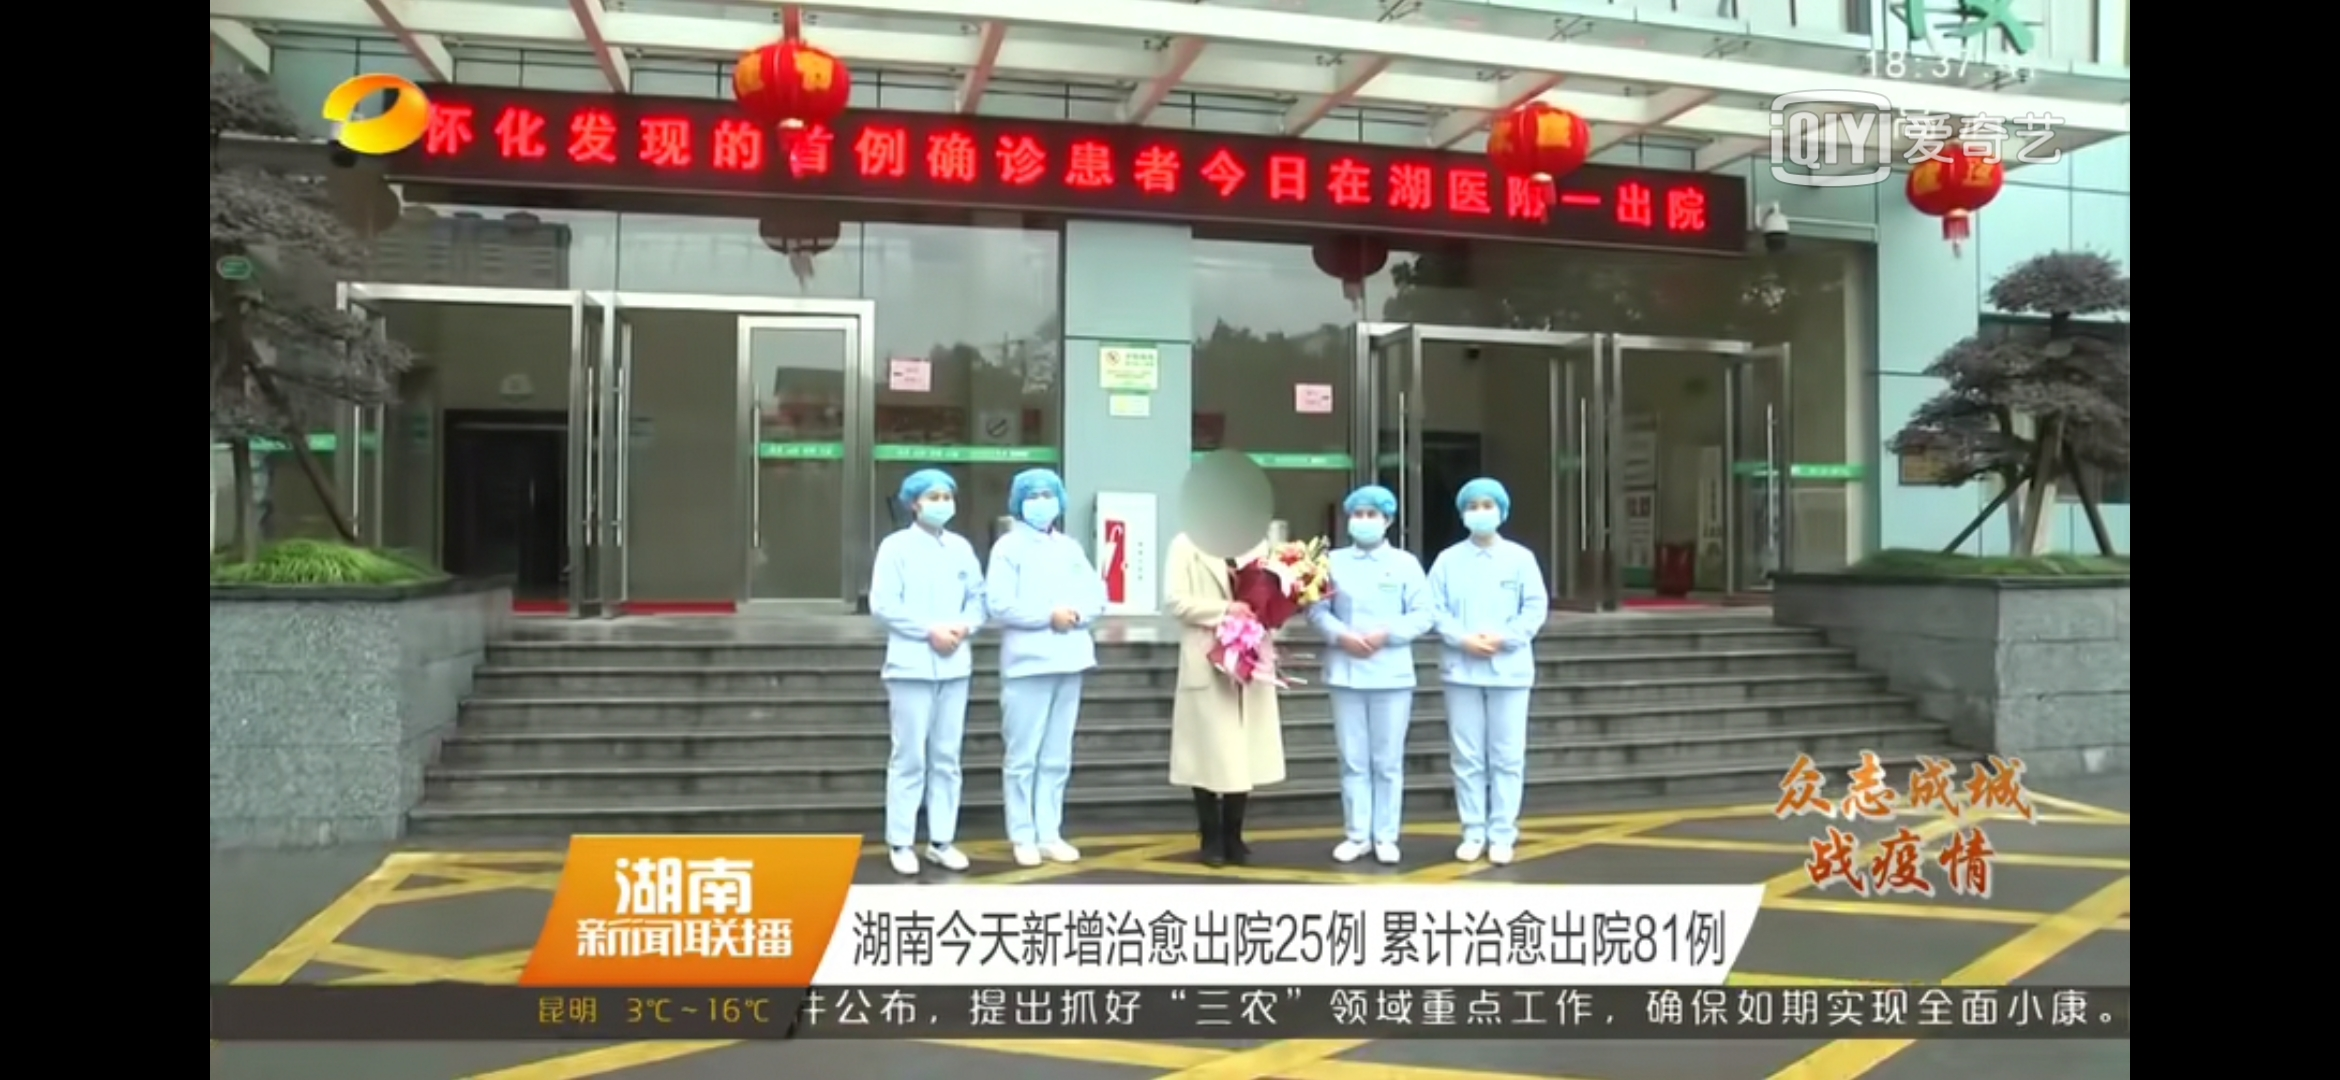correctlyWear: (906, 477, 957, 530), (1460, 483, 1504, 536), (1345, 500, 1392, 544), (1019, 482, 1063, 530)
